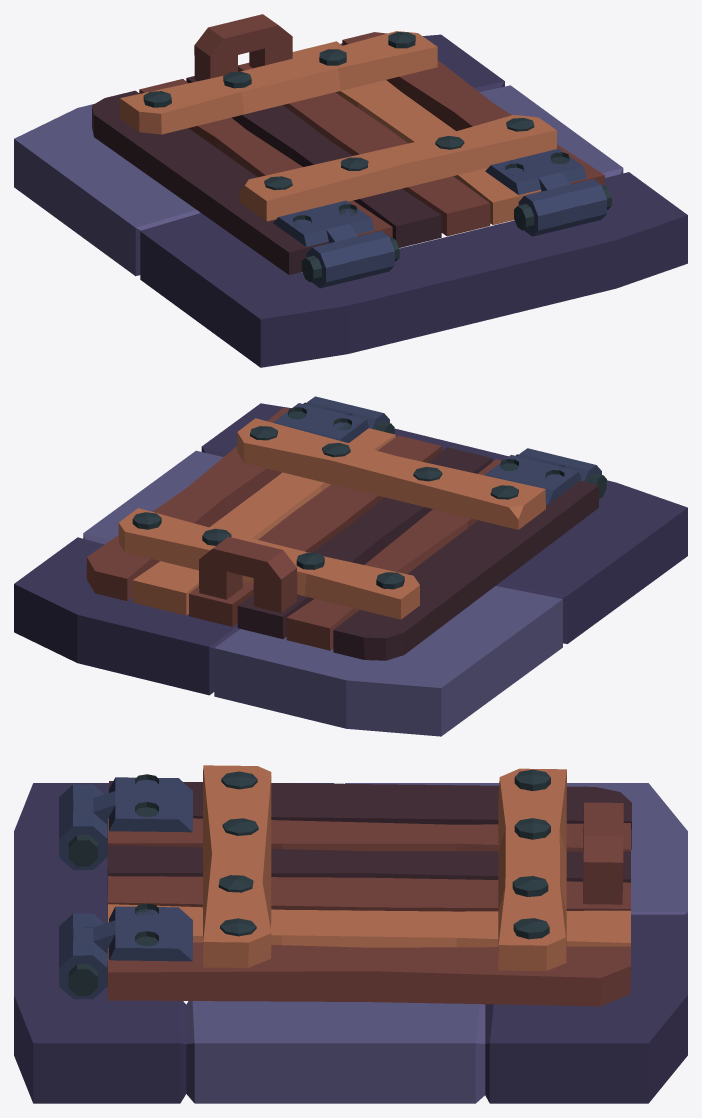
File: Hatch_01.fbx
The picture shows the model from 3 angles, top to bottom: view 1: azimuth 30°, elevation 25°; view 2: azimuth 150°, elevation 25°; view 3: azimuth 270°, elevation 25°; orthographic projection. The views are drawn at different scales.
Visible parts, largest first — view 1: Hatch_01; view 2: Hatch_01; view 3: Hatch_01.
Part boxes in pixels (box(x1,y1,x2,y2)): Hatch_01: box(14, 14, 687, 367); Hatch_01: box(14, 396, 687, 736); Hatch_01: box(14, 765, 687, 1103).
Bounding box in the file's own units: 200 × 54.87 × 219.
